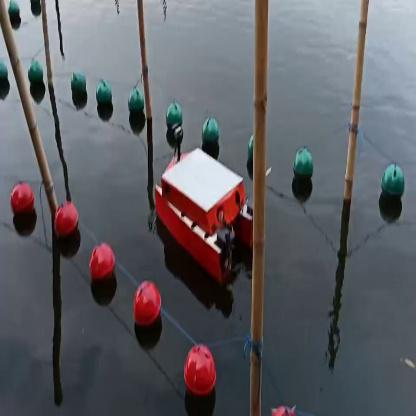green_buoy: (380, 159, 404, 208), (292, 148, 314, 184), (68, 71, 86, 104), (202, 119, 218, 148), (96, 82, 110, 112), (129, 90, 143, 119), (166, 101, 182, 124), (32, 64, 43, 86), (0, 65, 7, 90), (248, 136, 253, 167)
red_buoy: (181, 341, 220, 405), (136, 283, 162, 332), (6, 186, 34, 222), (88, 250, 114, 288), (51, 206, 78, 242)
